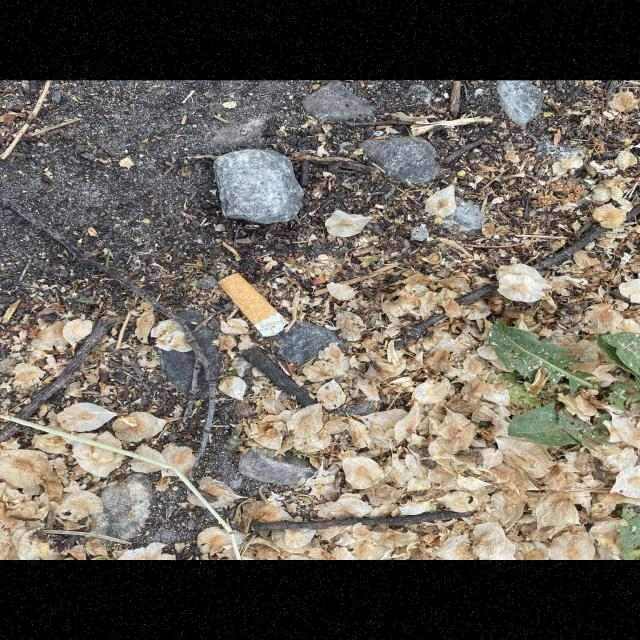other waste: (218, 272, 290, 337)
